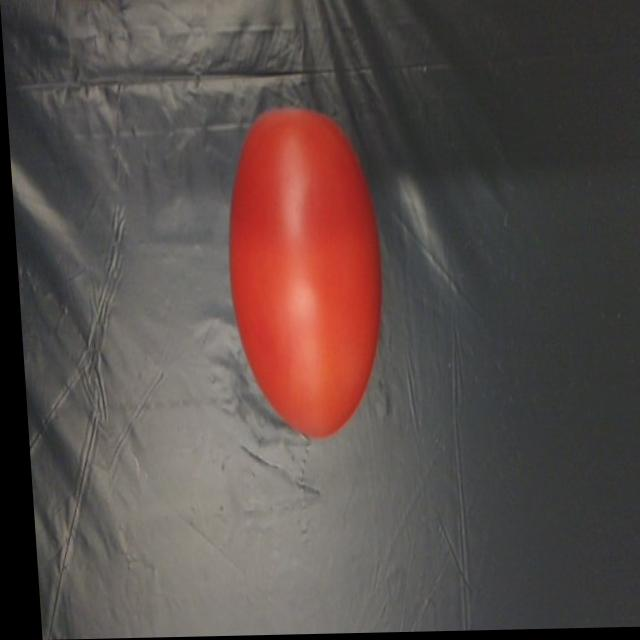kirmizi: (218, 94, 387, 446)
